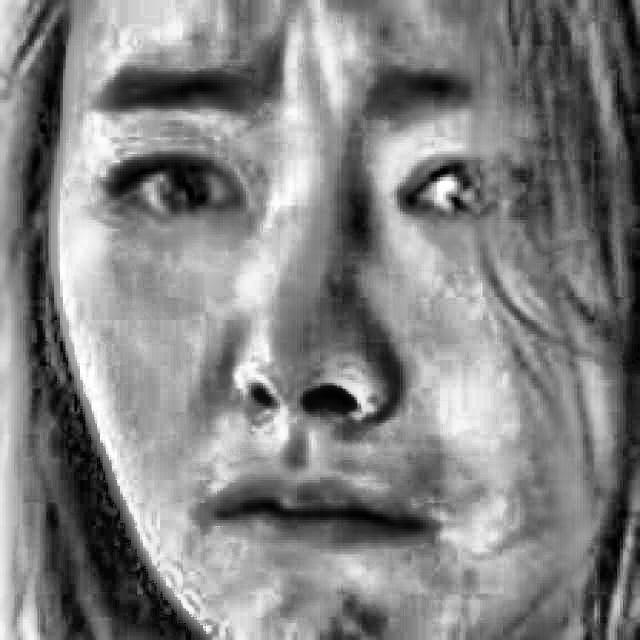fear: (78, 36, 596, 590)
